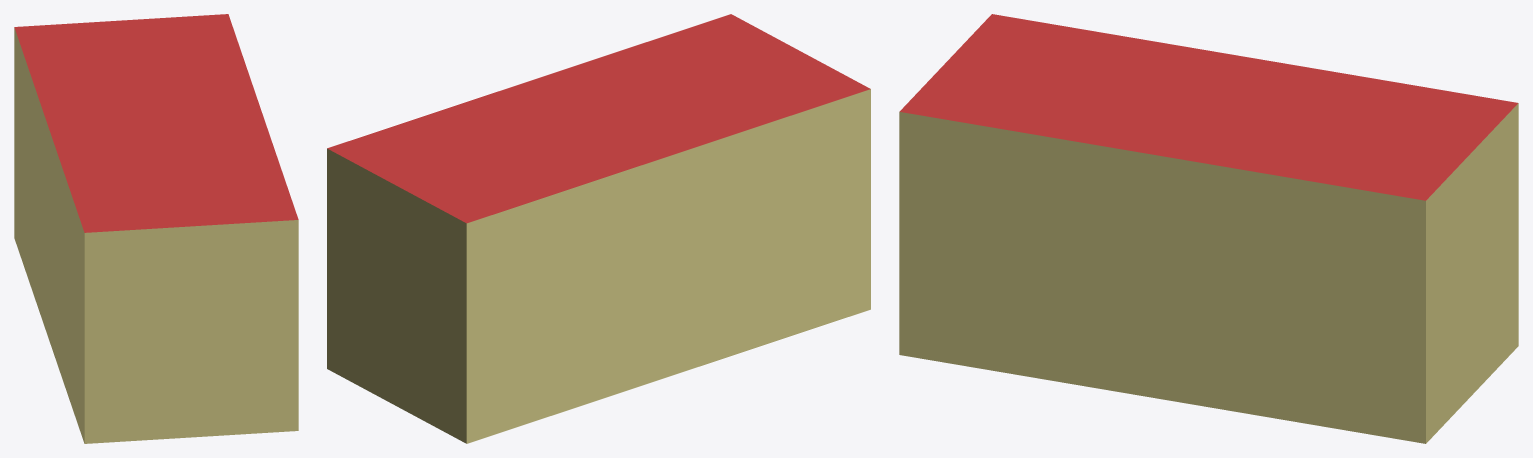
The picture shows the model from 3 angles, left to right: view 1: azimuth 30°, elevation 25°; view 2: azimuth 150°, elevation 25°; view 3: azimuth 270°, elevation 25°; orthographic projection. The views are drawn at different scales.
Size of the model in its own units: 15.68 by 21.97 by 9.52.
